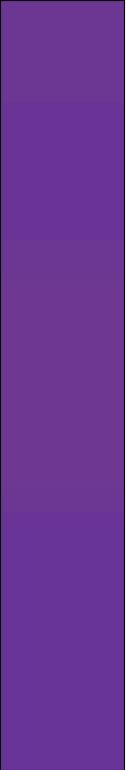safe: (10, 10, 118, 758)
